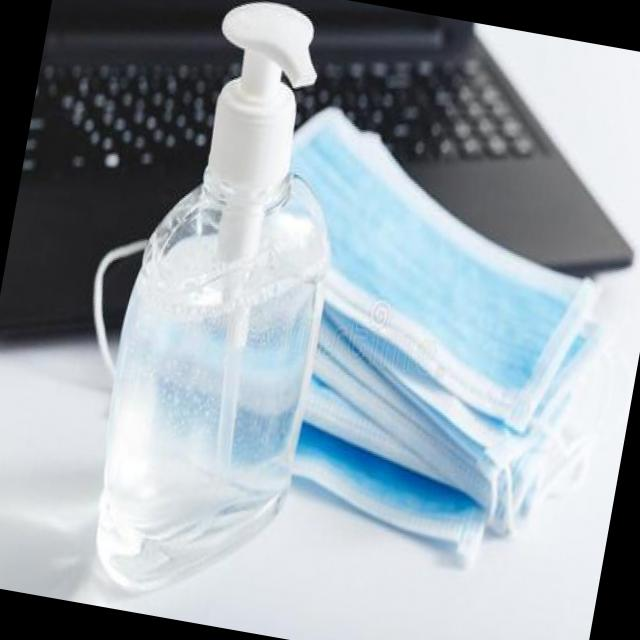sanitizer: (83, 0, 375, 574)
